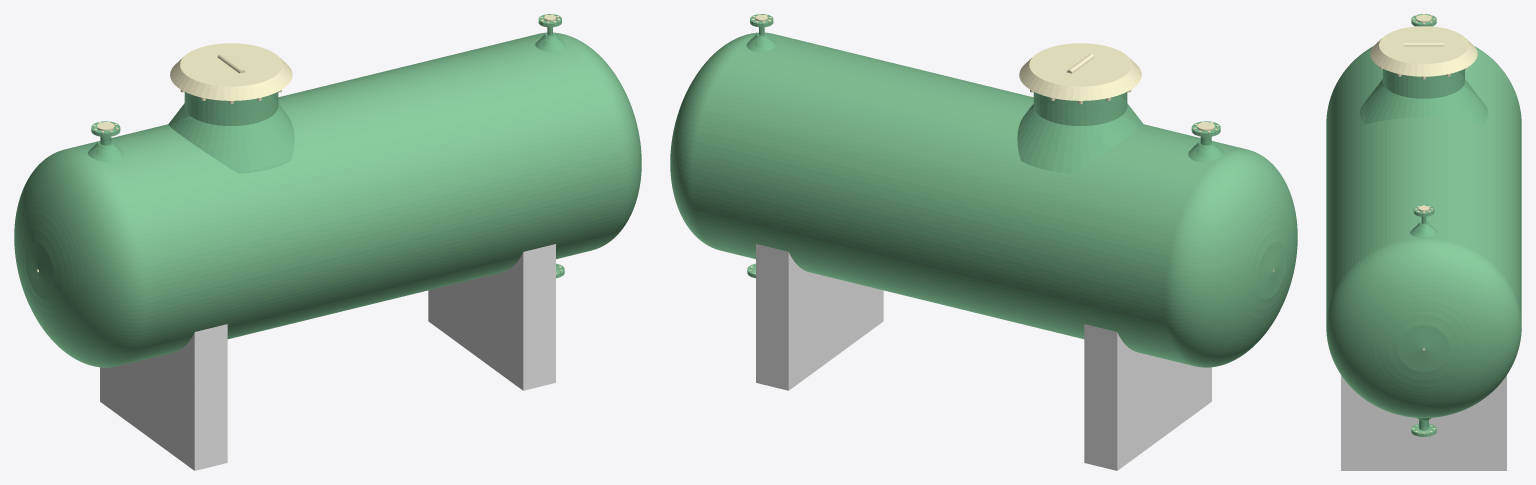
The model's file is kompozit-emkost.glb.
3 views of the same model, side by side, from view 1: azimuth 30°, elevation 25°; view 2: azimuth 150°, elevation 25°; view 3: azimuth 270°, elevation 25° (orthographic). The views are drawn at different scales.
Parts seen in each view (by area): view 1: Tank_ResinOut, Tank_Weave, Saddle_A, Saddle_B, Luk_Saddle, Luk_Lid, Luk_Neck; view 2: Tank_ResinOut, Tank_Weave, Saddle_A, Saddle_B, Luk_Saddle, Luk_Lid, Luk_Neck; view 3: Tank_ResinOut, Tank_Weave, Saddle_B, Luk_Lid, Luk_Saddle, Luk_Neck, Obratka_pad, Vyhod_flg.
Boxes of the visible parts, left/top/right/bottom form: Tank_ResinOut: left=14, top=32, right=641, bottom=367; Tank_Weave: left=15, top=33, right=640, bottom=366; Saddle_A: left=100, top=324, right=227, bottom=470; Saddle_B: left=428, top=244, right=555, bottom=390; Luk_Saddle: left=168, top=96, right=294, bottom=173; Luk_Lid: left=170, top=43, right=292, bottom=100; Luk_Neck: left=184, top=92, right=278, bottom=125; Tank_ResinOut: left=670, top=32, right=1297, bottom=367; Tank_Weave: left=671, top=33, right=1296, bottom=366; Saddle_A: left=1084, top=324, right=1211, bottom=470; Saddle_B: left=756, top=244, right=883, bottom=390; Luk_Saddle: left=1017, top=96, right=1143, bottom=173; Luk_Lid: left=1019, top=43, right=1141, bottom=100; Luk_Neck: left=1033, top=92, right=1127, bottom=125; Tank_ResinOut: left=1326, top=46, right=1521, bottom=417; Tank_Weave: left=1327, top=48, right=1520, bottom=417; Saddle_B: left=1341, top=348, right=1506, bottom=470; Luk_Lid: left=1370, top=26, right=1477, bottom=76; Luk_Saddle: left=1359, top=72, right=1488, bottom=124; Luk_Neck: left=1383, top=69, right=1464, bottom=98; Obratka_pad: left=1410, top=221, right=1437, bottom=237; Vyhod_flg: left=1411, top=423, right=1436, bottom=436.
Size of the model in its own units: 6 by 3.5 by 2.
